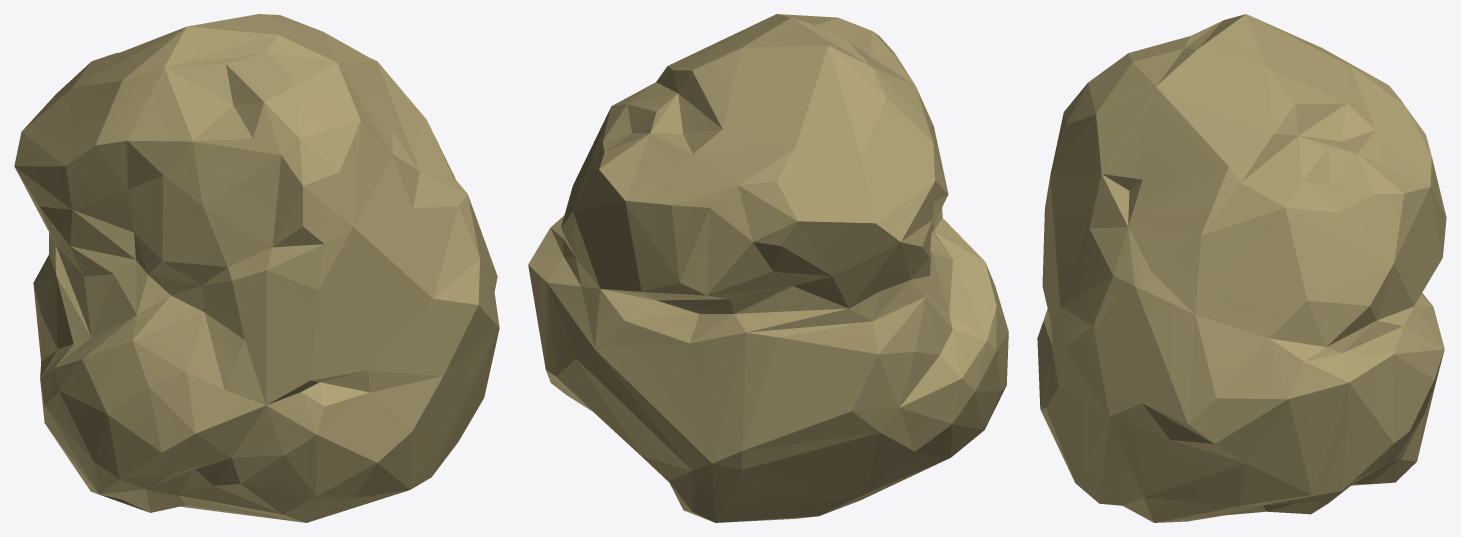
The model's file is SM_rock_79.fbx.
3 views of the same model, side by side, from view 1: azimuth 30°, elevation 25°; view 2: azimuth 150°, elevation 25°; view 3: azimuth 270°, elevation 25° (orthographic). The views are drawn at different scales.
Visible parts, largest first — view 1: rock_79; view 2: rock_79; view 3: rock_79.
Part boxes in pixels (x1,y1,x2,y2): rock_79: (14,14,499,522); rock_79: (528,14,1008,522); rock_79: (1037,14,1446,522).
Size of the model in its own units: 125 by 131 by 107.
